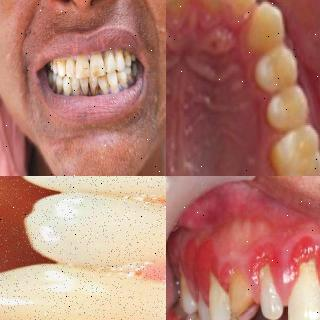Gum Swelling: (248, 230, 320, 304), (178, 241, 234, 295)
calculus: (86, 79, 98, 99), (79, 80, 90, 98)
stains: (97, 73, 108, 95), (91, 64, 101, 80), (78, 65, 90, 77), (72, 80, 80, 98), (55, 82, 64, 94), (122, 50, 130, 63), (50, 77, 59, 88), (116, 46, 124, 58), (106, 81, 115, 91), (126, 72, 135, 82), (106, 48, 114, 59), (56, 57, 64, 64), (66, 54, 74, 61), (129, 51, 135, 58)
